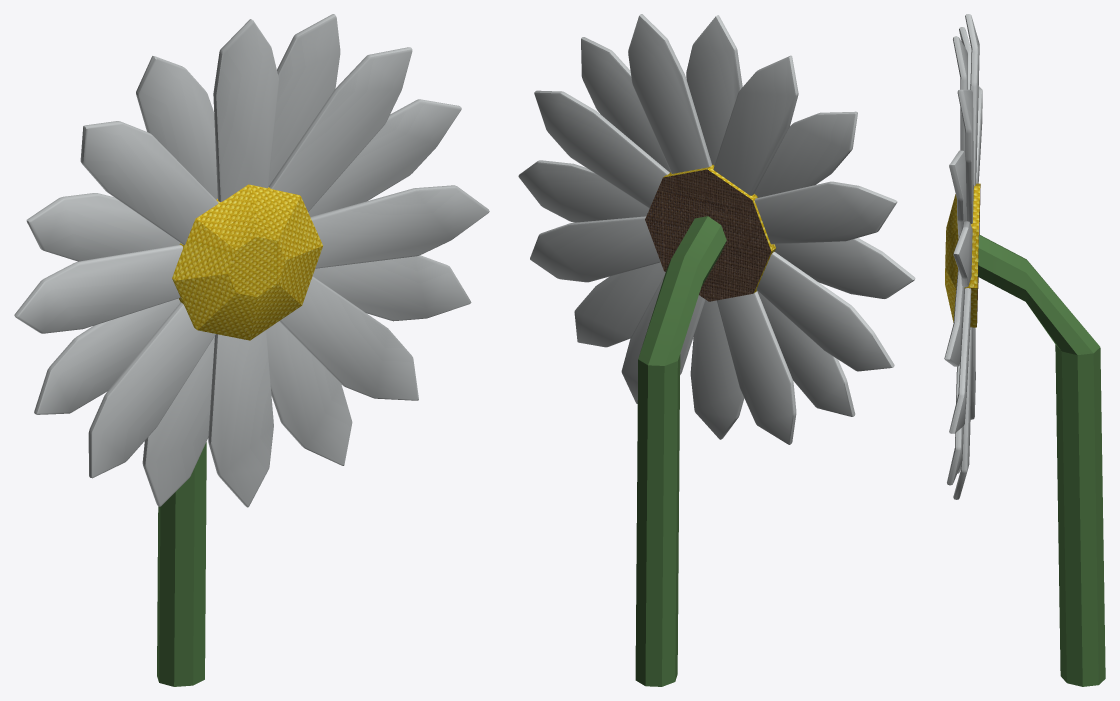
The model's file is daisy.fbx.
3 renders of one model, left to right at view 1: azimuth 30°, elevation 25°; view 2: azimuth 150°, elevation 25°; view 3: azimuth 270°, elevation 25°, orthographic. The views are drawn at different scales.
Visible parts, largest first — view 1: Petals001, Ovule, Stem; view 2: Petals001, Ovule, Stem; view 3: Stem, Petals001, Ovule.
Boxes of the visible parts, x1,y1,x2,y2 form: Petals001: (14,14,489,507); Ovule: (172,184,322,340); Stem: (157,442,206,686); Petals001: (518,14,915,444); Ovule: (638,164,775,365); Stem: (635,354,680,686); Stem: (1055,344,1105,686); Petals001: (944,14,982,499); Ovule: (945,183,1099,355).
Size of the model in its own units: 113 by 165 by 37.65.
4 materials, 4 textured.
